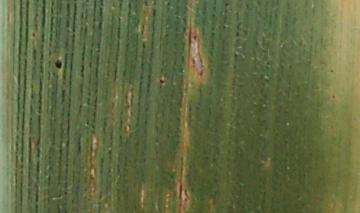tarspot: (52, 56, 63, 71), (30, 28, 38, 39), (140, 41, 147, 51), (329, 93, 337, 101), (159, 77, 166, 86), (328, 69, 335, 75)
